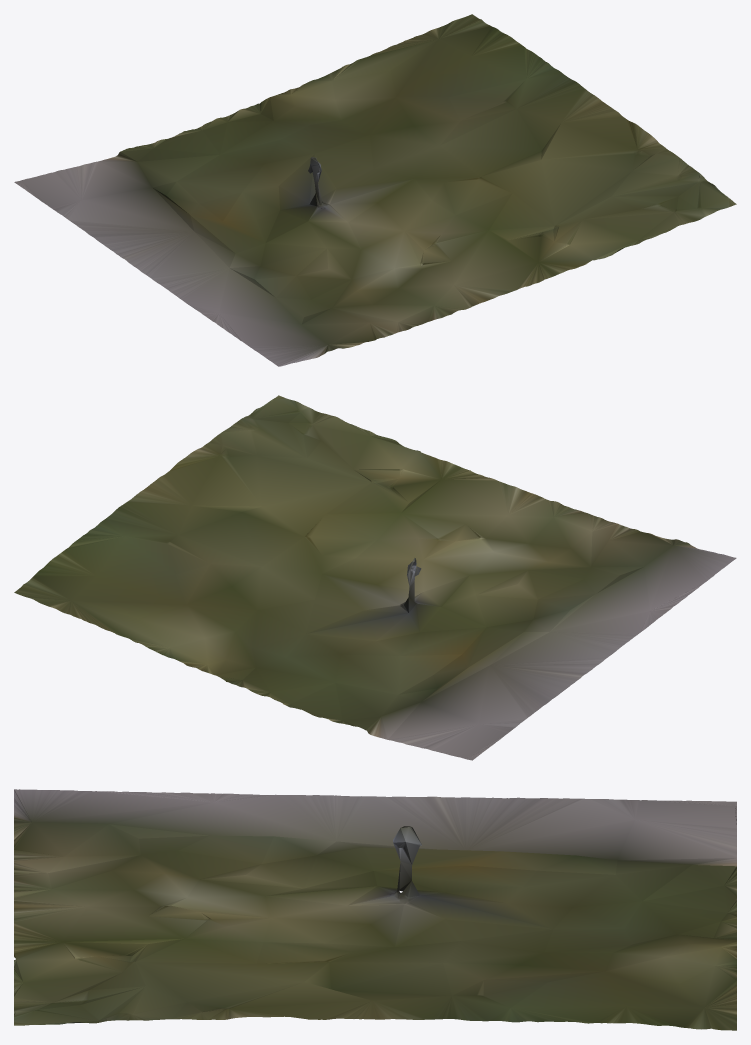
Rendered from coarse.glb.
3 renders of one model, top to bottom at view 1: azimuth 30°, elevation 25°; view 2: azimuth 150°, elevation 25°; view 3: azimuth 270°, elevation 25°, orthographic. The views are drawn at different scales.
Bounding box in the file's own units: 3.6 × 0.5257 × 3.6.
